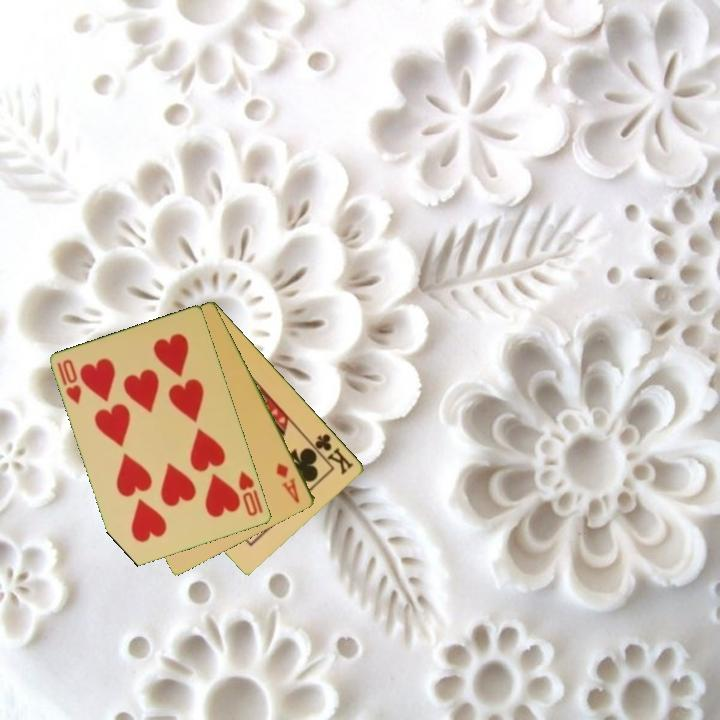10h: (235, 467, 266, 519), (54, 356, 85, 407)
Ad: (273, 459, 303, 506)
Kc: (306, 430, 357, 478)
